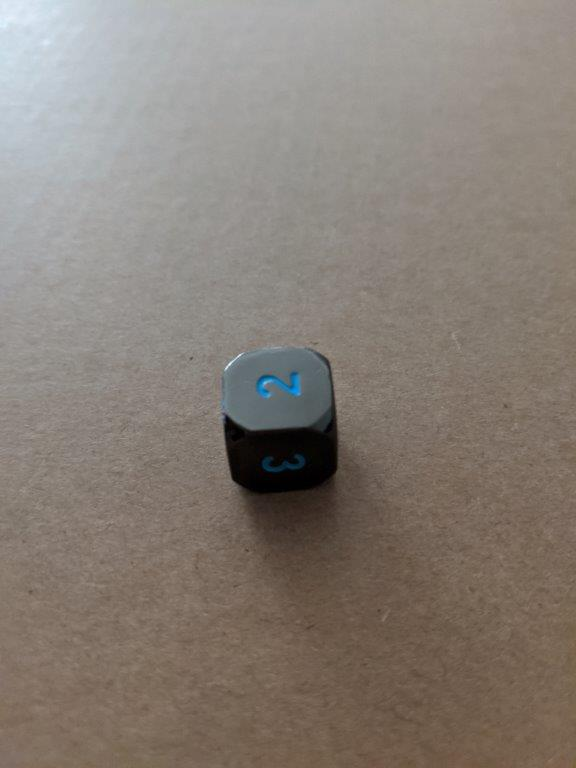d6-2: (218, 344, 340, 490)
